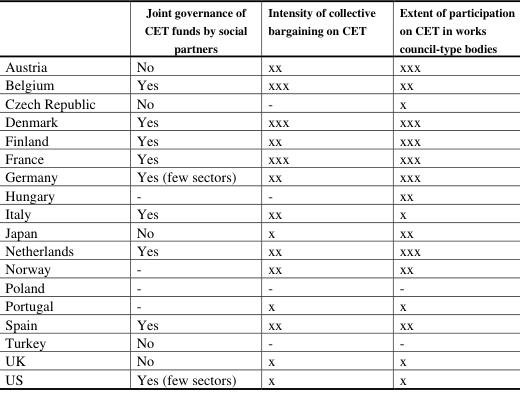table: (4, 3, 514, 387)
table column: (115, 3, 256, 387), (256, 3, 386, 387), (386, 3, 514, 387), (4, 3, 115, 387)
table column header: (4, 3, 514, 55)
table row: (4, 3, 514, 55), (4, 55, 514, 74), (4, 74, 514, 93), (4, 129, 514, 148), (4, 166, 514, 185), (4, 221, 514, 240), (4, 258, 514, 277), (4, 313, 514, 332), (4, 350, 514, 369), (4, 93, 514, 111), (4, 111, 514, 129), (4, 148, 514, 166), (4, 185, 514, 203), (4, 203, 514, 221), (4, 240, 514, 258), (4, 277, 514, 295), (4, 295, 514, 313), (4, 332, 514, 350), (4, 369, 514, 387)
